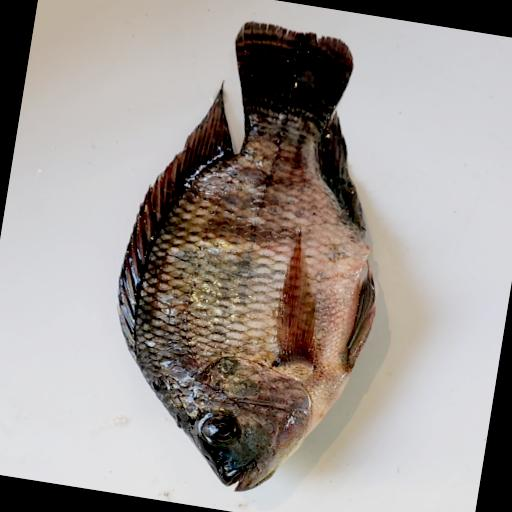Tilapia: (89, 6, 418, 509)
